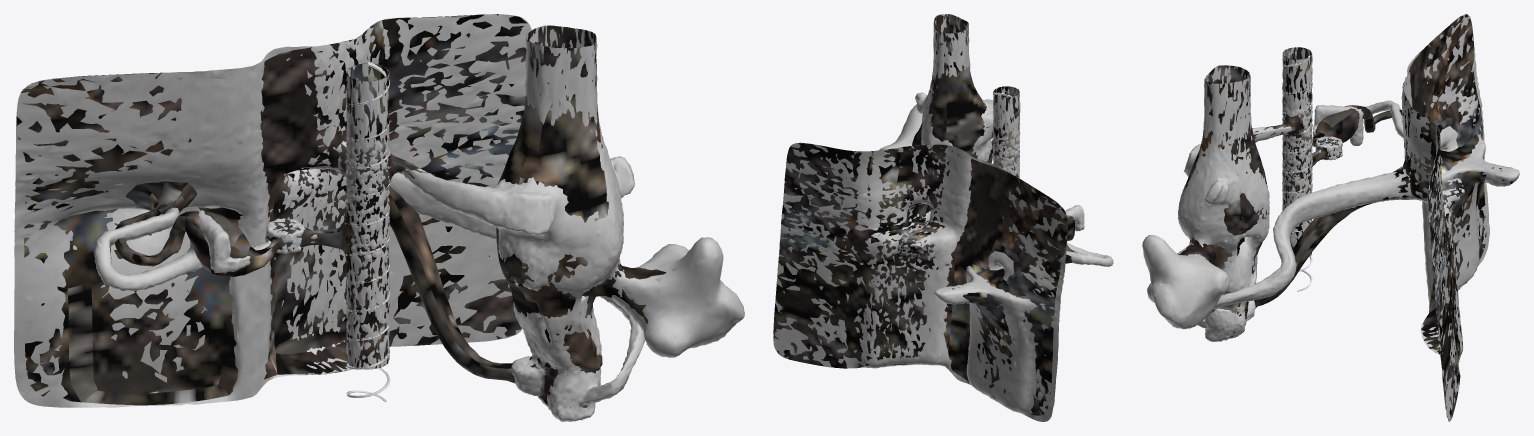
Rendered from Chapter1.fbx.
3 renders of one model, left to right at view 1: azimuth 30°, elevation 25°; view 2: azimuth 150°, elevation 25°; view 3: azimuth 270°, elevation 25°, orthographic. The views are drawn at different scales.
Parts seen in each view (by area): view 1: CaveBase_World1_12/7, CaveBase.001, Railing; view 2: CaveBase.001, CaveBase_World1_12/7; view 3: CaveBase_World1_12/7, CaveBase.001, Railing.
Boxes of the visible parts, x1,y1,x2,y2 form: CaveBase_World1_12/7: (14,14,744,421); CaveBase.001: (16,14,676,408); Railing: (343,62,390,402); CaveBase.001: (773,14,1077,415); CaveBase_World1_12/7: (773,14,1113,421); CaveBase_World1_12/7: (1142,14,1519,421); CaveBase.001: (1178,14,1512,421); Railing: (1282,55,1312,291).
Bounding box in the file's own units: 62064 × 52303 × 57644.
